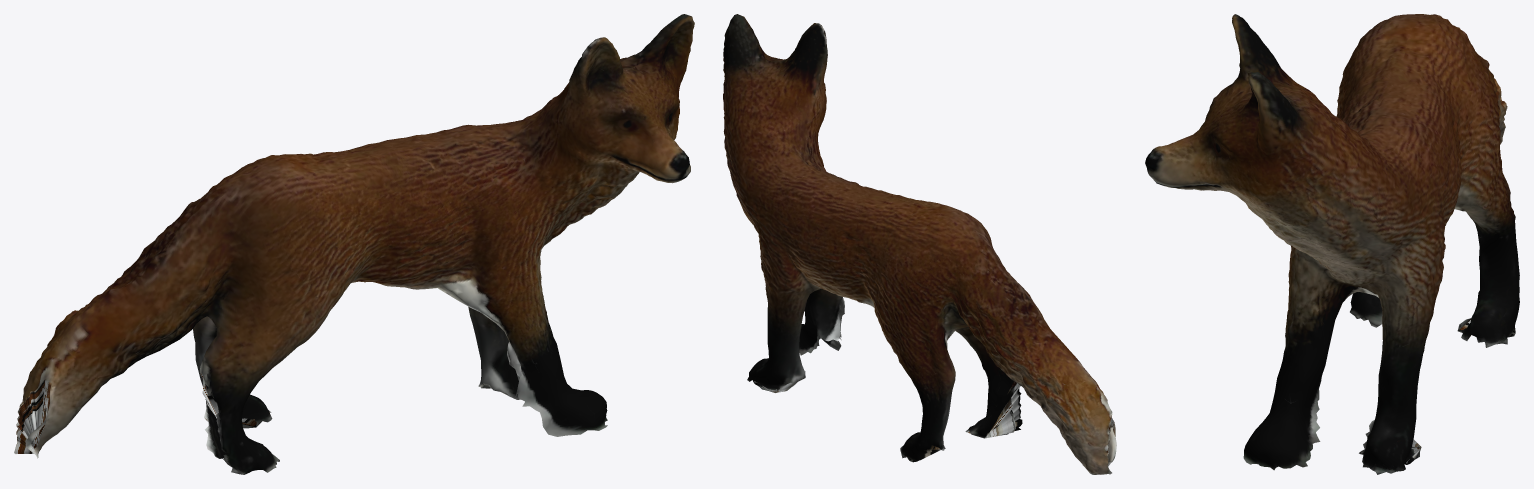
Rendered from fox.fbx.
3 renders of one model, left to right at view 1: azimuth 30°, elevation 25°; view 2: azimuth 150°, elevation 25°; view 3: azimuth 270°, elevation 25°, orthographic. The views are drawn at different scales.
Parts seen in each view (by area): view 1: Object; view 2: Object; view 3: Object.
Part boxes in pixels (x1,y1,x2,y2): Object: [14, 14, 694, 474]; Object: [723, 14, 1116, 474]; Object: [1145, 14, 1519, 474].
Size of the model in its own units: 69.89 by 46.54 by 34.78.
1 material, 1 textured.
